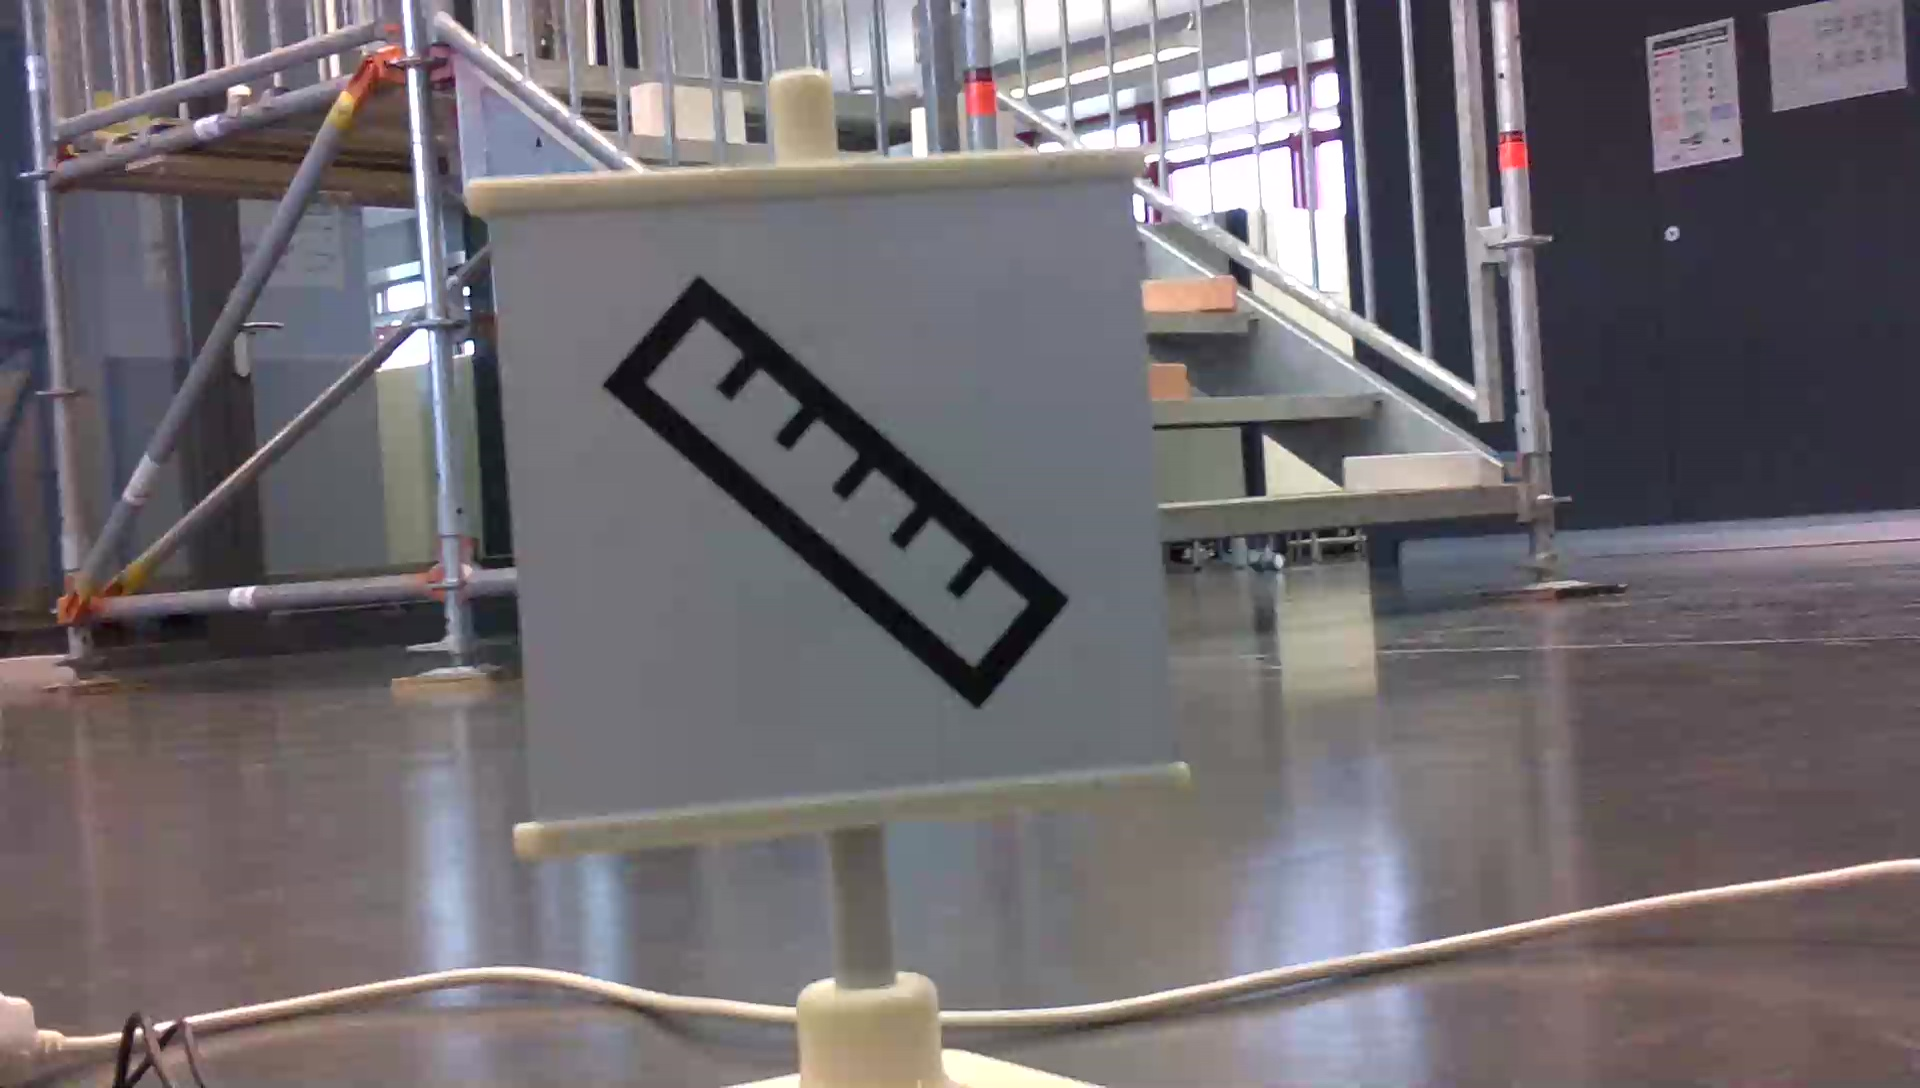ruler: (597, 266, 1079, 715)
